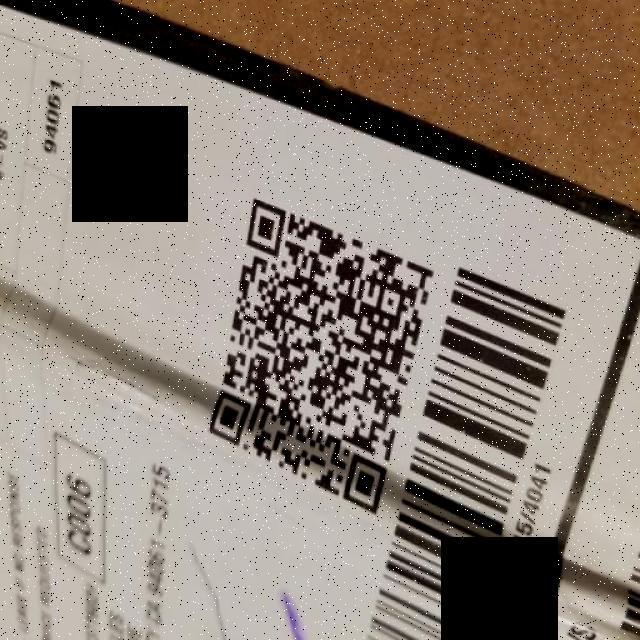QR_CODE: (196, 168, 440, 532)
